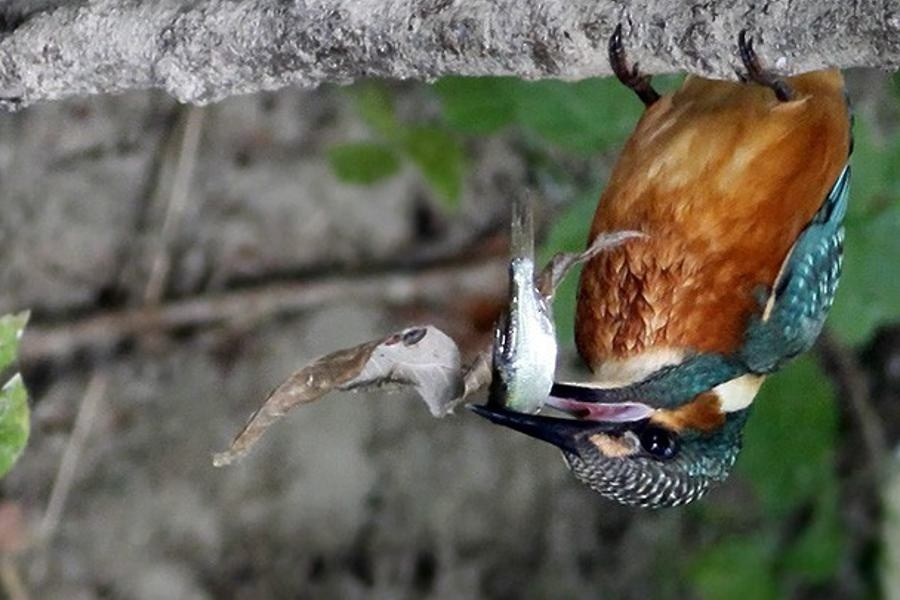kingfisher: (472, 27, 857, 511)
